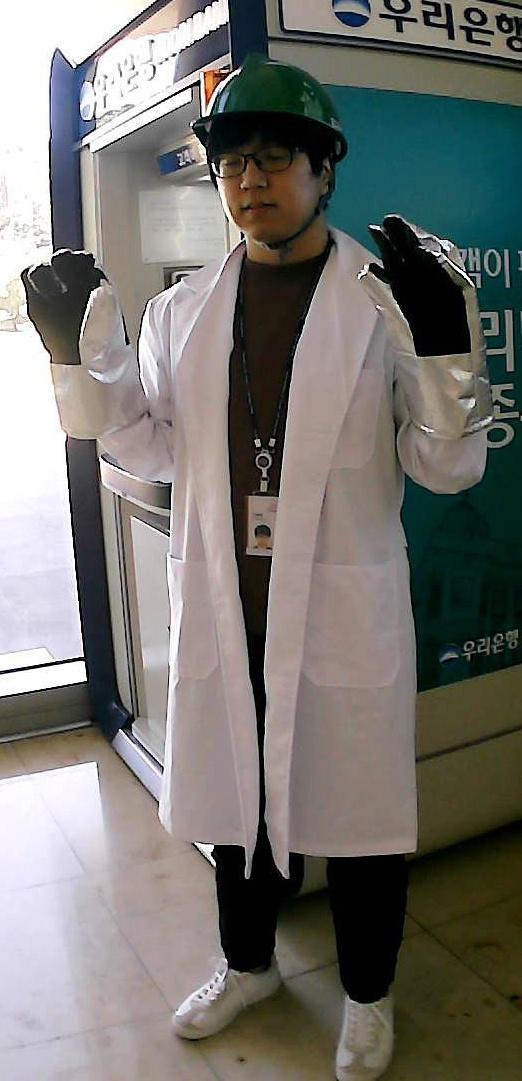lab_coat: (151, 308, 391, 836)
